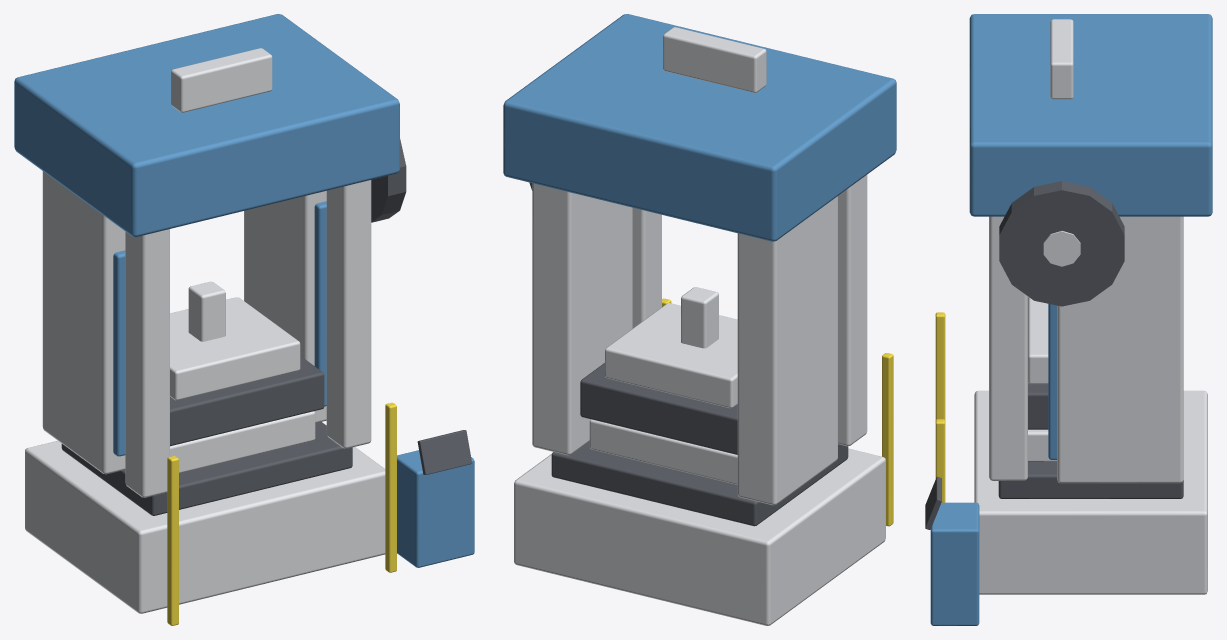
The model's file is stamping-press.glb.
3 views of the same model, side by side, from view 1: azimuth 30°, elevation 25°; view 2: azimuth 150°, elevation 25°; view 3: azimuth 270°, elevation 25° (orthographic). The views are drawn at different scales.
Parts seen in each view (by area): view 1: stamping-press, ram/steel, ram/dark; view 2: stamping-press, ram/steel, ram/dark; view 3: stamping-press, ram/steel, ram/dark.
Part boxes in pixels (<box>): stamping-press: <box>14,14,474,625</box>; ram/steel: <box>170,281,300,400</box>; ram/dark: <box>170,356,324,446</box>; stamping-press: <box>503,14,896,625</box>; ram/steel: <box>605,287,737,408</box>; ram/dark: <box>580,363,737,454</box>; stamping-press: <box>925,14,1212,625</box>; ram/steel: <box>1028,297,1048,384</box>; ram/dark: <box>1028,382,1048,429</box>.
Size of the model in its own units: 3.85 by 5.6 by 2.96.
